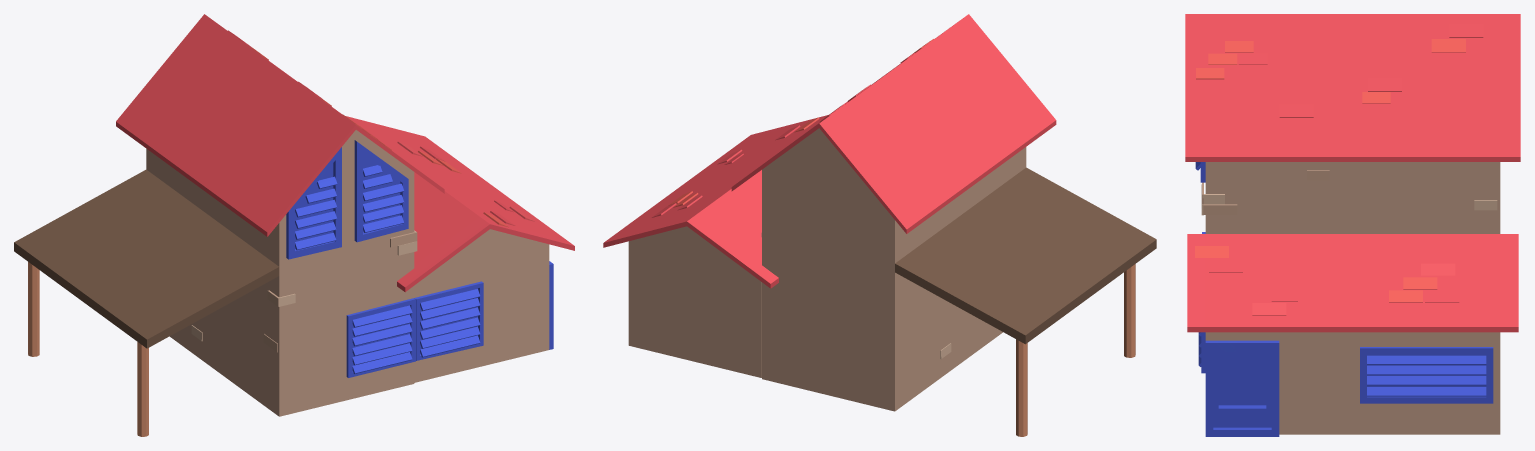
File: house_type_4.obj
3 renders of one model, left to right at view 1: azimuth 30°, elevation 25°; view 2: azimuth 150°, elevation 25°; view 3: azimuth 270°, elevation 25°, orthographic. The views are drawn at different scales.
Visible parts, largest first — view 1: house_type_4; view 2: house_type_4; view 3: house_type_4.
Boxes of the visible parts, x1=… form: house_type_4: x1=14, y1=14, x2=574, y2=436; house_type_4: x1=603, y1=14, x2=1156, y2=436; house_type_4: x1=1185, y1=14, x2=1520, y2=436.
Size of the model in its own units: 6.22 by 4 by 3.89.
